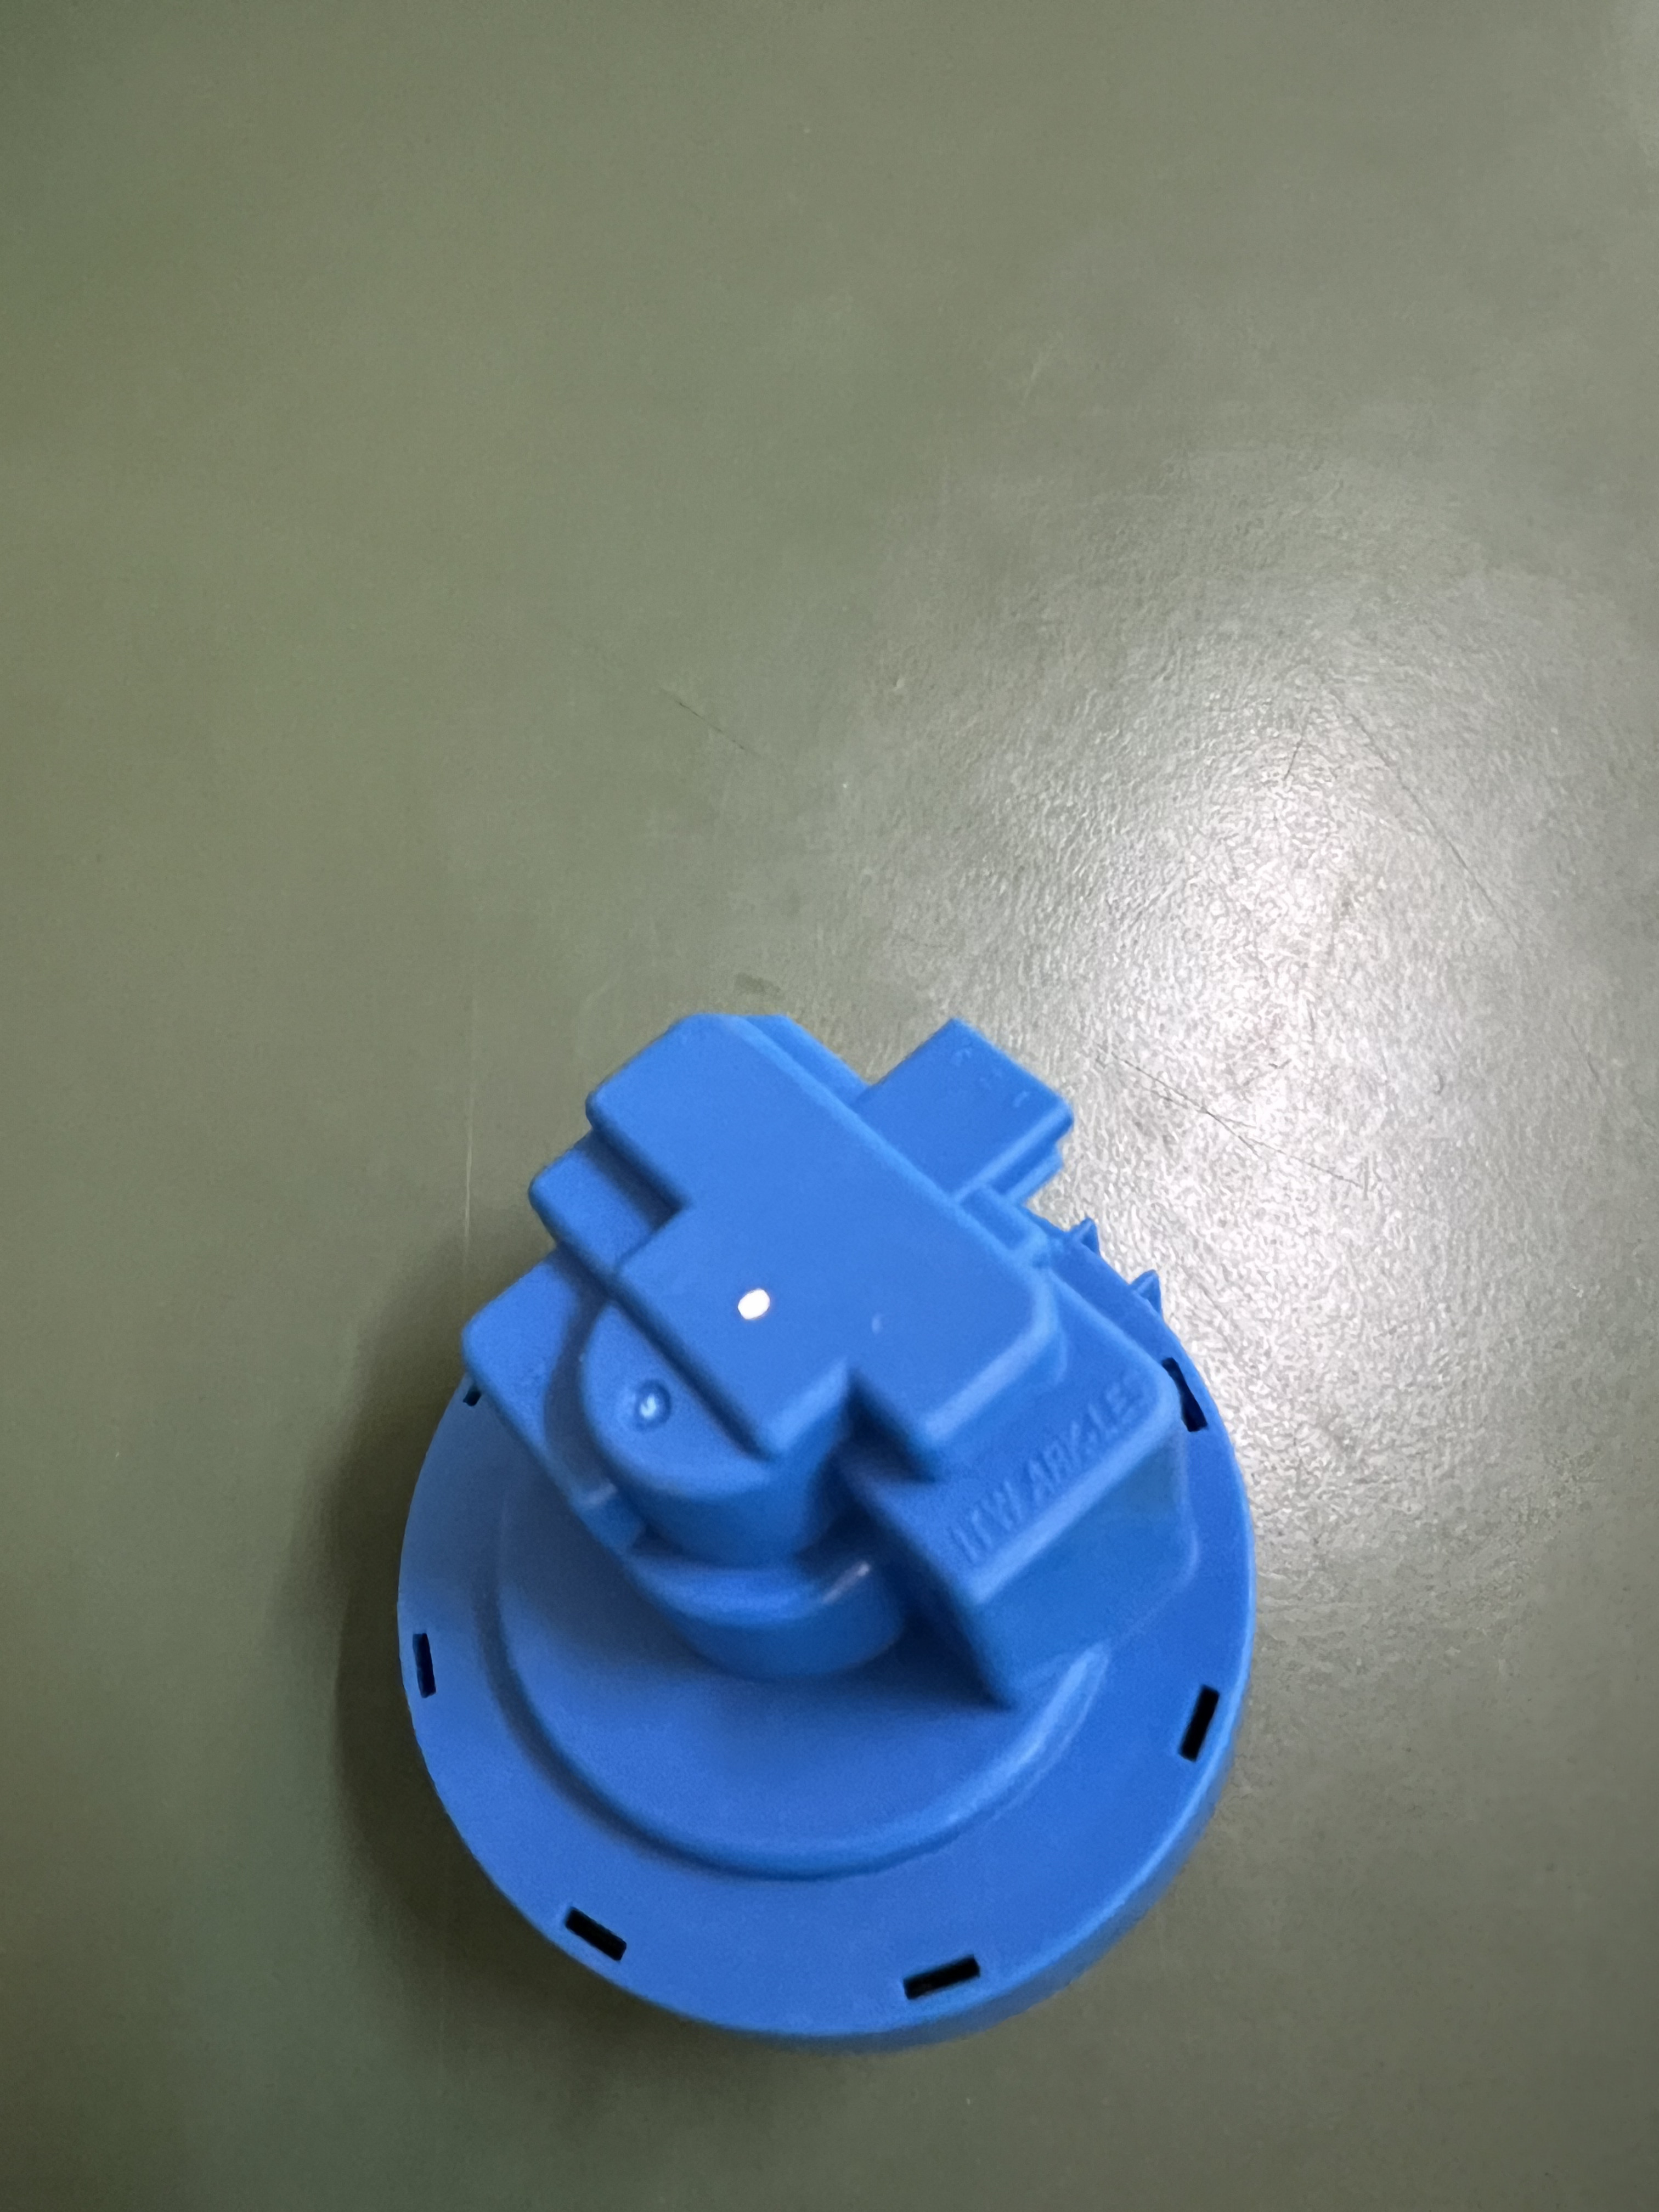voltas_beko_pressure_switch: (362, 988, 1281, 2057)
